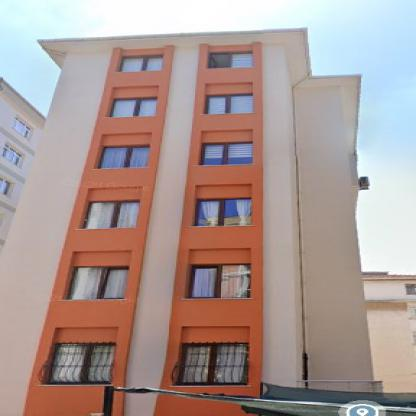window: (175, 346, 245, 387), (41, 344, 112, 384), (188, 266, 250, 300), (68, 268, 128, 300), (194, 199, 252, 227), (83, 200, 138, 229), (98, 146, 150, 168), (202, 142, 252, 164), (110, 97, 158, 116), (204, 94, 252, 113), (120, 56, 162, 72), (209, 52, 252, 67), (3, 145, 24, 165), (11, 116, 29, 136), (0, 179, 9, 194)
